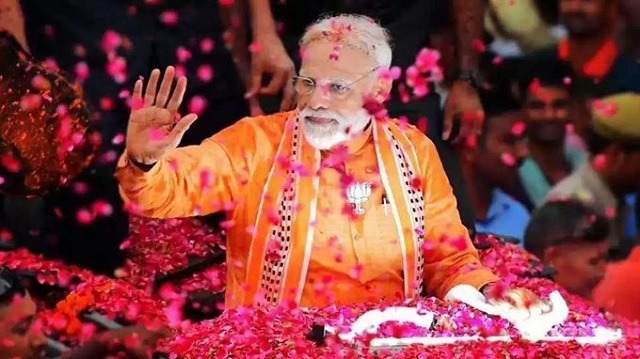modi: (271, 3, 425, 157)
